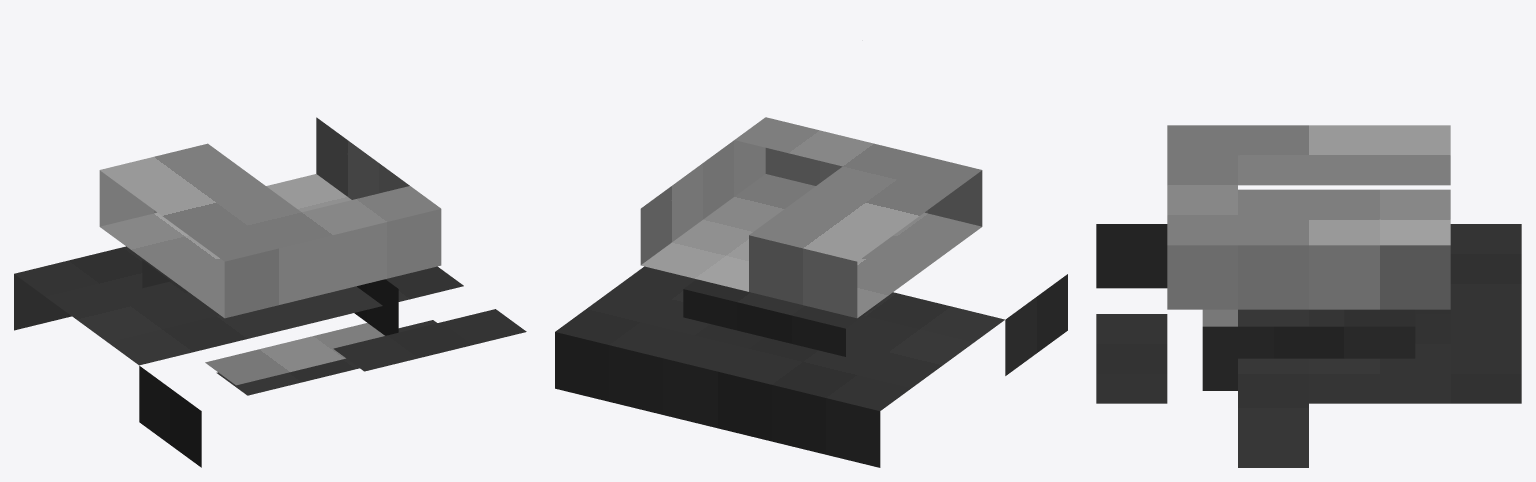
Rendered from electric_connector.obj.
The picture shows the model from 3 angles, left to right: view 1: azimuth 30°, elevation 25°; view 2: azimuth 150°, elevation 25°; view 3: azimuth 270°, elevation 25°; orthographic projection. The views are drawn at different scales.
Parts seen in each view (by area): view 1: block, base; view 2: block, base; view 3: block, base.
Boxes of the visible parts, box(x1,y1,x2,y2) form: block: box(99, 117, 441, 385); base: box(14, 246, 526, 467); block: box(640, 117, 982, 356); base: box(555, 266, 1067, 467); block: box(1167, 125, 1450, 390); base: box(1096, 224, 1521, 467).
Bounding box in the file's own units: 0.375 × 0.3125 × 0.375.
